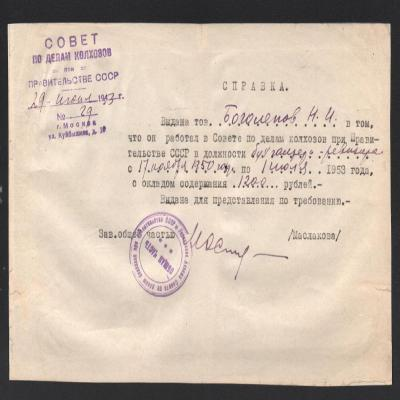document: (8, 24, 392, 385)
